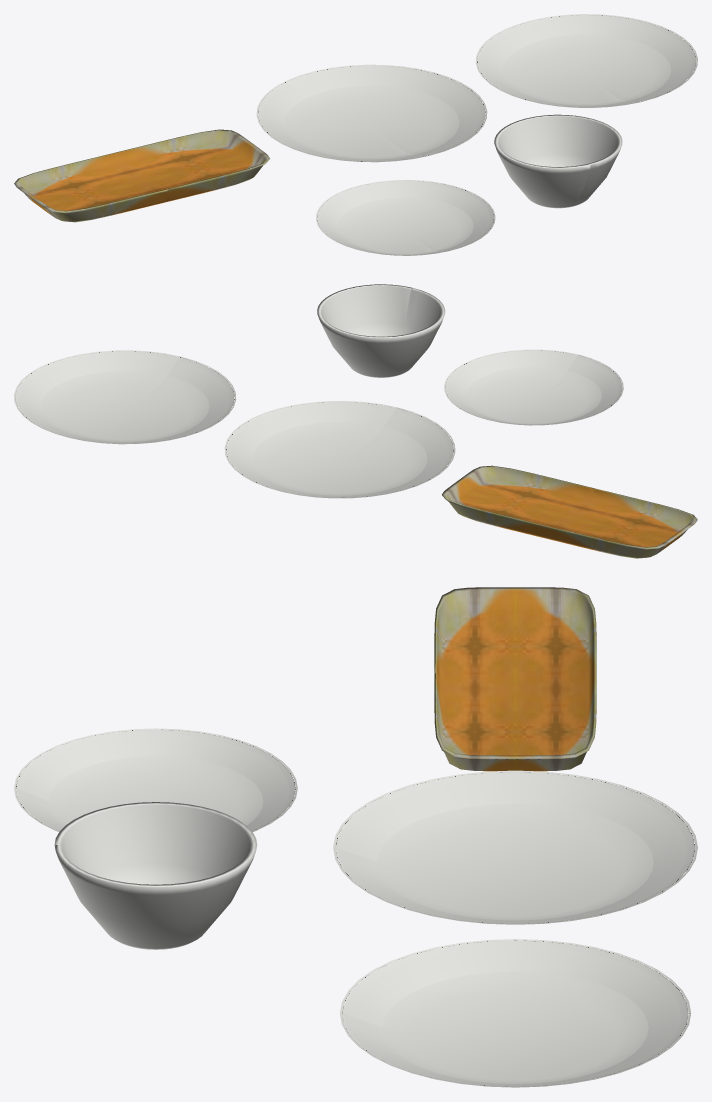
File: FLO-04.glb
The picture shows the model from 3 angles, top to bottom: view 1: azimuth 30°, elevation 25°; view 2: azimuth 150°, elevation 25°; view 3: azimuth 270°, elevation 25°; orthographic projection. The views are drawn at different scales.
Bounding box in the file's own units: 0.88 × 0.07 × 0.506.
5 materials, 1 textured.
